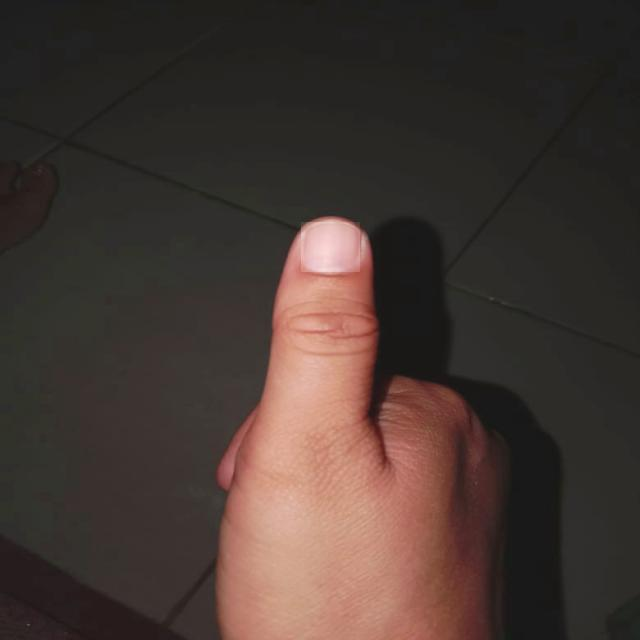sehat: (302, 222, 360, 272)
